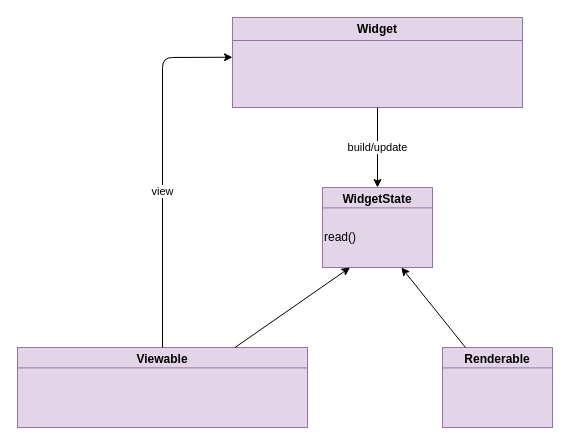
Image size: 570x445. Some labels were removed from this diagram. Each missing label, with the centre of its shape:
"build(): WidgetState update(state: WidgetState): WidgetState" belongs at (377,74).
"view(): WidgetState" belongs at (162,397).
